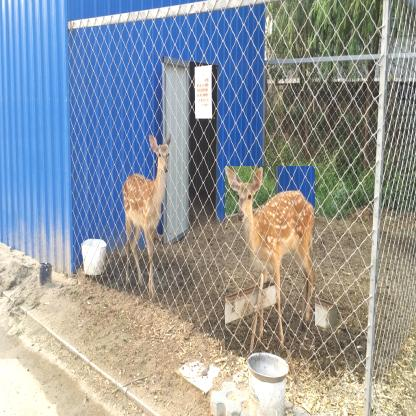Deer: (225, 166, 315, 350), (121, 132, 170, 301)
